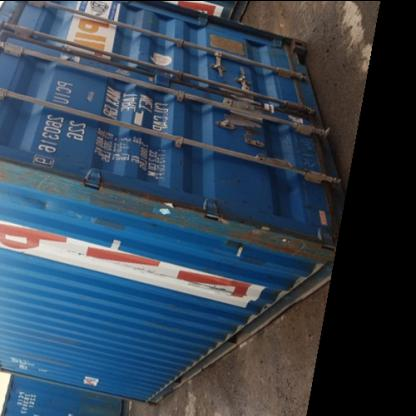Damage: (87, 186, 219, 230), (224, 217, 333, 259), (0, 150, 89, 196), (292, 130, 328, 177), (292, 182, 336, 218), (32, 190, 66, 218)
